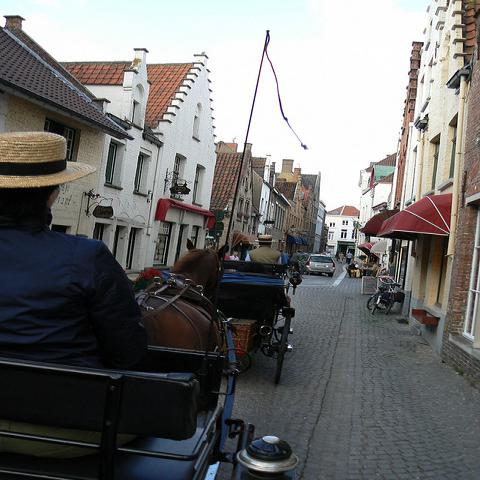car: (303, 254, 336, 278)
